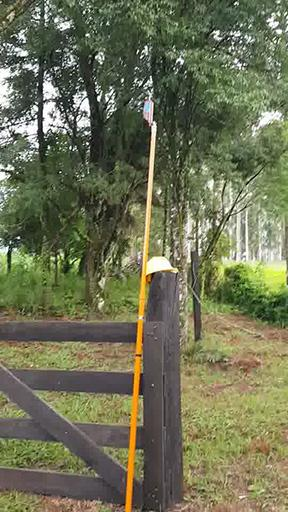Vara_Manobra: (126, 125, 157, 512)
